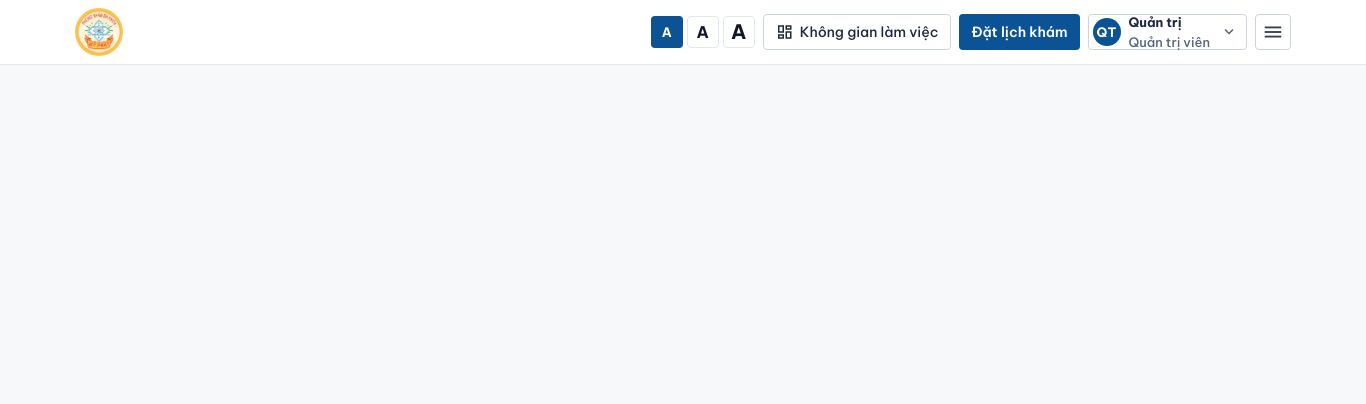
Navbar – header điện thoại không tràn › đã đăng nhập: thanh trên không lặp "Lịch trực"/"Lịch khám của tôi" (đã có trong menu tài khoản) và chỉ hiện link mục từ 2xl
Step 1. Click the button with id "userMenuBtn" → [1167, 32], box x1=1088 y1=14 x2=1247 y2=50
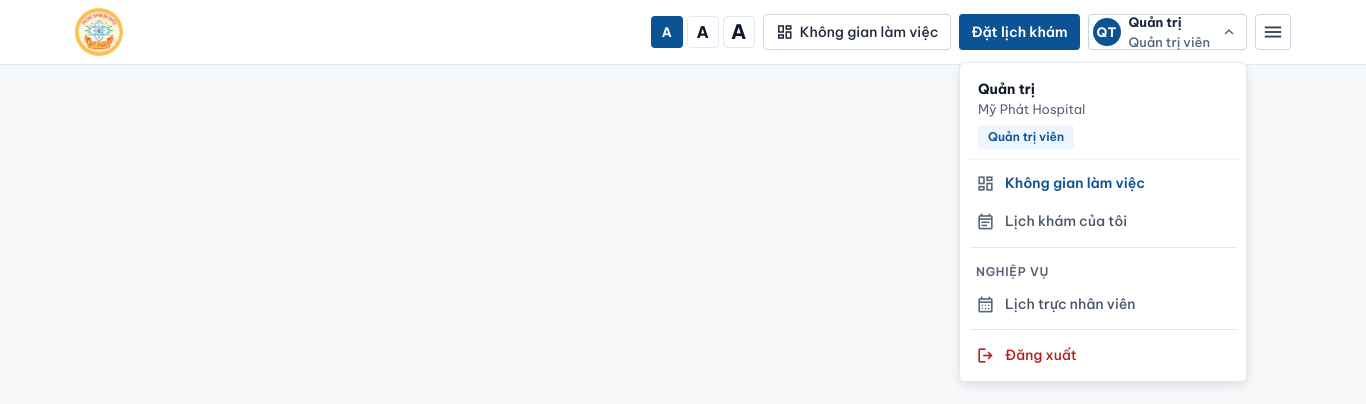
Expected: the button "Lịch trực nhân viên" is shown, x1=966 y1=285 x2=1240 y2=323
